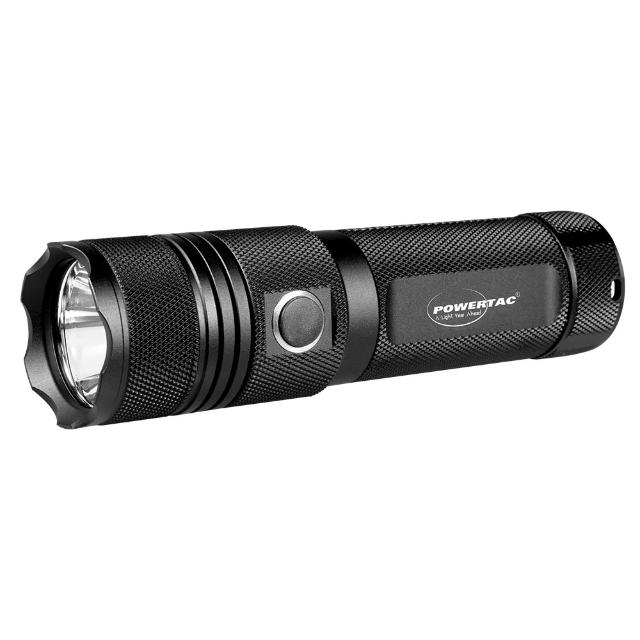Flashlight: (15, 204, 630, 436)
